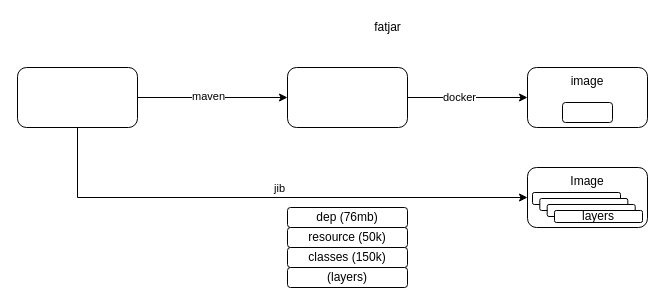
Some shapes in this 665 by 305 pixel diagram are drawn without their labels. Each missing label, with the centre of its shape:
"<source code>" belongs at [77,97].
"jar" belongs at [587,112].
"jar (76mb)" belongs at [347,97].
